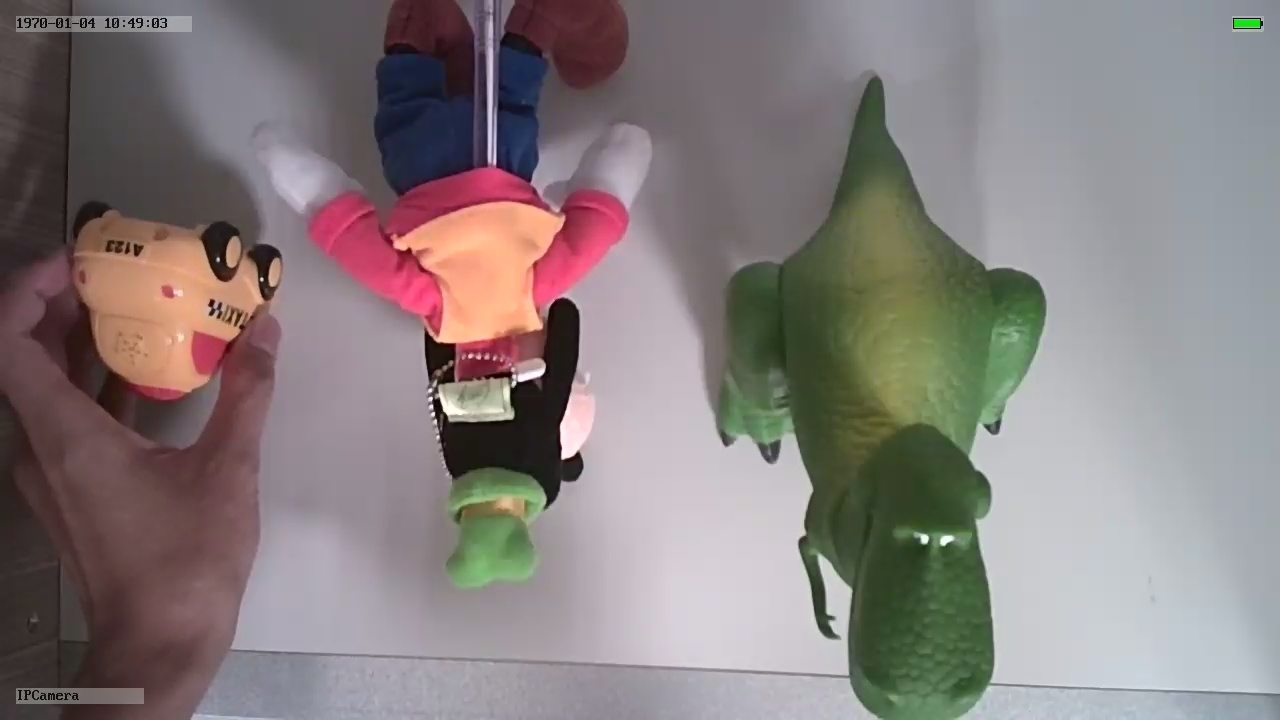rex: (712, 146, 1047, 720)
